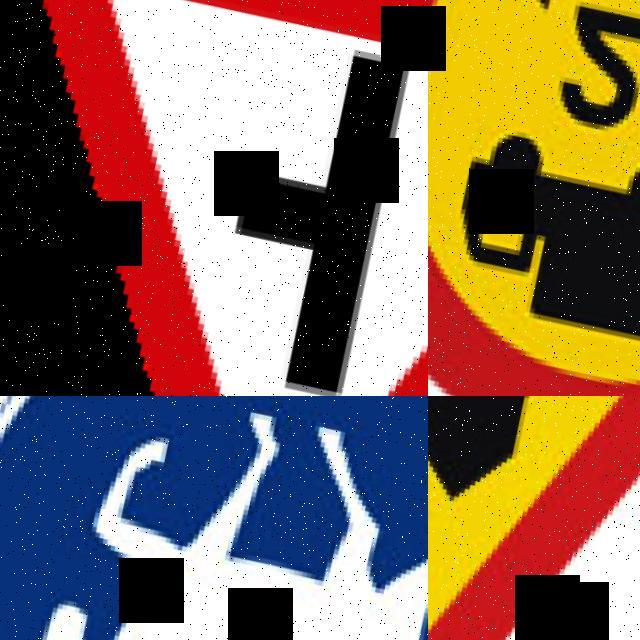166: (428, 396, 640, 640)
97: (0, 396, 428, 640)
No vehicles exceeding length shown: (428, 0, 640, 396)
Side road junction: (0, 0, 428, 396)
